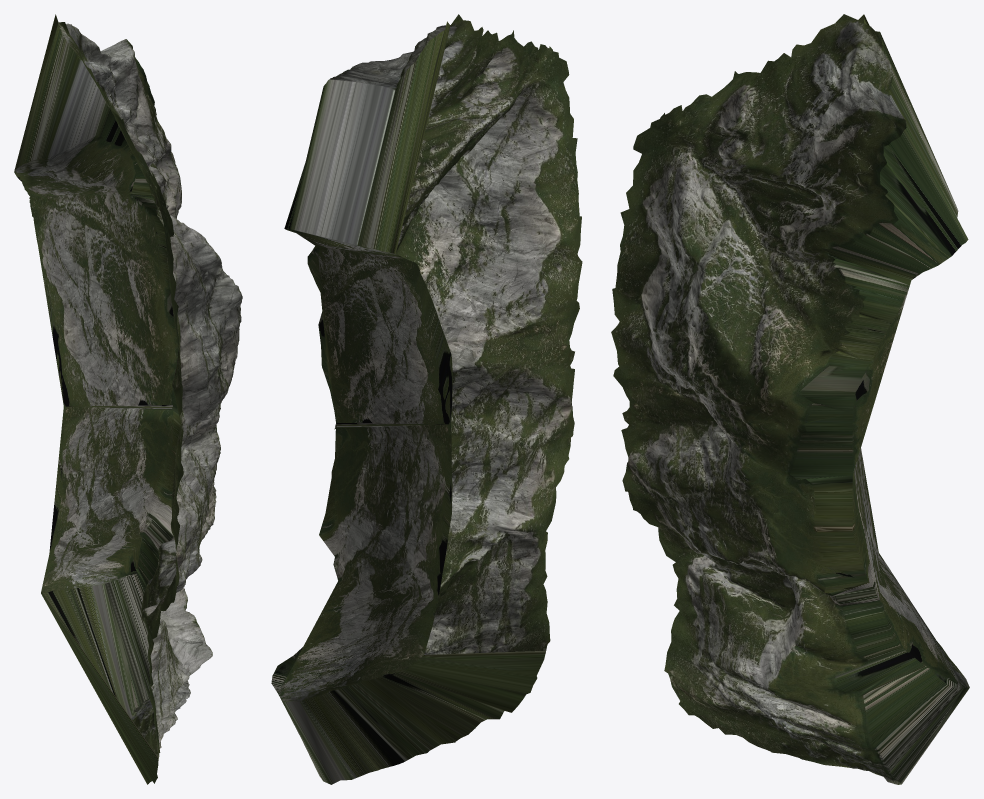
The model's file is cliff_yosemite_a.glb.
The picture shows the model from 3 angles, left to right: view 1: azimuth 30°, elevation 25°; view 2: azimuth 150°, elevation 25°; view 3: azimuth 270°, elevation 25°; orthographic projection. The views are drawn at different scales.
Visible parts, largest first — view 1: Cliff_01_Curved_A; view 2: Cliff_01_Curved_A; view 3: Cliff_01_Curved_A.
Boxes of the visible parts, x1,y1,x2,y2 form: Cliff_01_Curved_A: (14,14,242,784); Cliff_01_Curved_A: (271,14,582,784); Cliff_01_Curved_A: (611,14,969,784).
Size of the model in its own units: 0.188 by 1 by 0.4478.
Materials: 1 (1 with a texture image).
